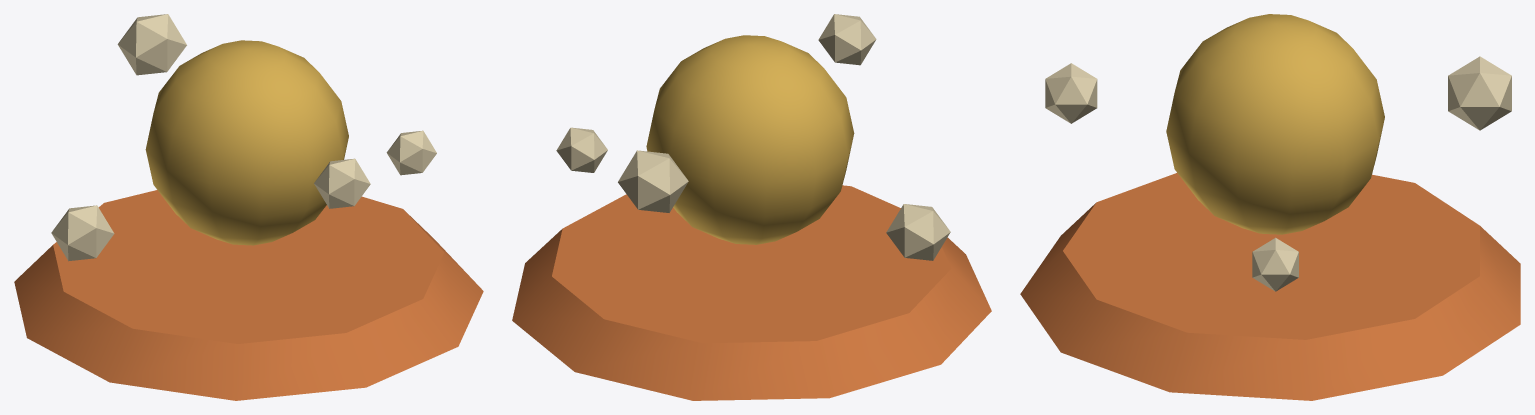
File: festival.glb
The picture shows the model from 3 angles, left to right: view 1: azimuth 30°, elevation 25°; view 2: azimuth 150°, elevation 25°; view 3: azimuth 270°, elevation 25°; orthographic projection. The views are drawn at different scales.
Visible parts, largest first — view 1: festival_base, festival_focus, festival_pulse_3, festival_pulse_2, festival_pulse_1, festival_pulse_0; view 2: festival_base, festival_focus, festival_pulse_3, festival_pulse_2, festival_pulse_1, festival_pulse_0; view 3: festival_base, festival_focus, festival_pulse_3, festival_pulse_1, festival_pulse_0.
Boxes of the visible parts, <box> form: festival_base: <box>14,190,483,400</box>; festival_focus: <box>145,40,348,245</box>; festival_pulse_3: <box>117,14,186,75</box>; festival_pulse_2: <box>51,205,114,261</box>; festival_pulse_1: <box>314,158,370,208</box>; festival_pulse_0: <box>386,130,436,175</box>; festival_base: <box>512,185,991,400</box>; festival_focus: <box>646,35,854,244</box>; festival_pulse_3: <box>618,150,688,212</box>; festival_pulse_2: <box>886,204,950,260</box>; festival_pulse_1: <box>818,14,876,65</box>; festival_pulse_0: <box>556,127,607,172</box>; festival_base: <box>1020,173,1520,400</box>; festival_focus: <box>1166,14,1384,234</box>; festival_pulse_3: <box>1448,56,1511,130</box>; festival_pulse_1: <box>1045,63,1097,123</box>; festival_pulse_0: <box>1252,237,1298,291</box>.
Size of what is drawn, in the model's own units: 2.97 by 1.75 by 2.94.
